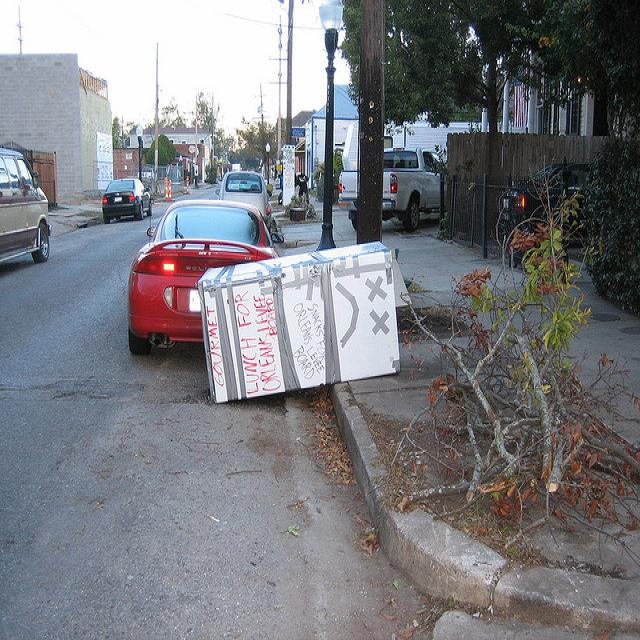Vehicle: (127, 198, 284, 355), (337, 148, 443, 233), (0, 149, 52, 262), (215, 176, 272, 230), (101, 178, 152, 225)
